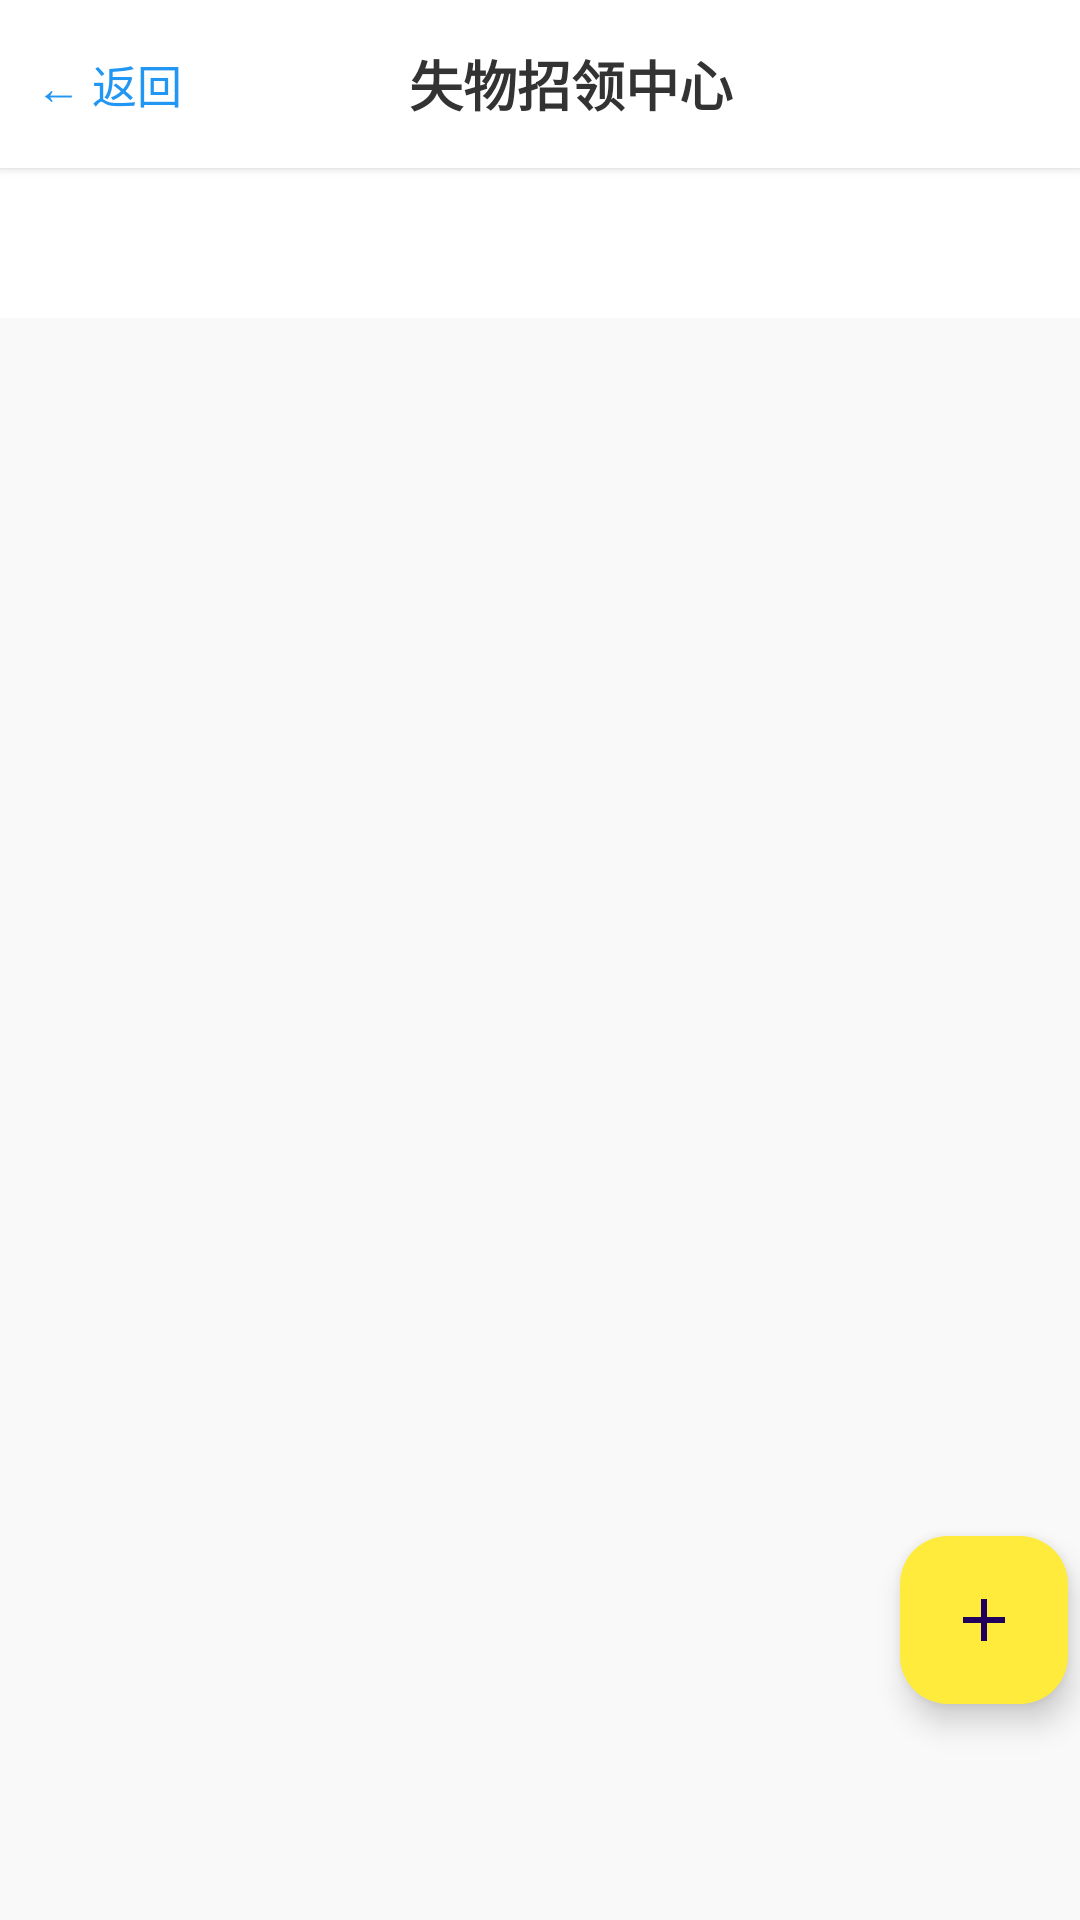

Point at icon controls on the screen. Image size 1080px×1920px, points as [x,y].
add: [984,1620]
